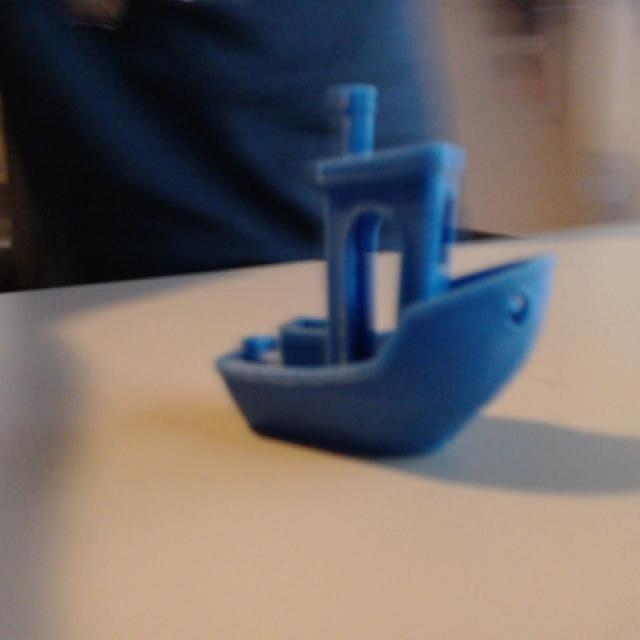benchy: (212, 81, 558, 464)
